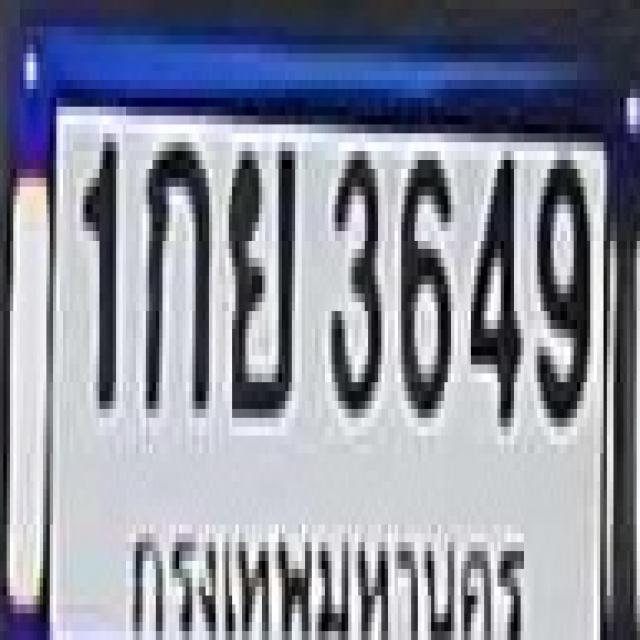1: (80, 129, 112, 395)
3: (328, 142, 378, 409)
4: (468, 147, 517, 413)
6: (398, 146, 448, 404)
9: (534, 151, 587, 418)
A01: (142, 133, 205, 400)
A34: (225, 138, 292, 404)
BKK: (120, 511, 532, 640)
